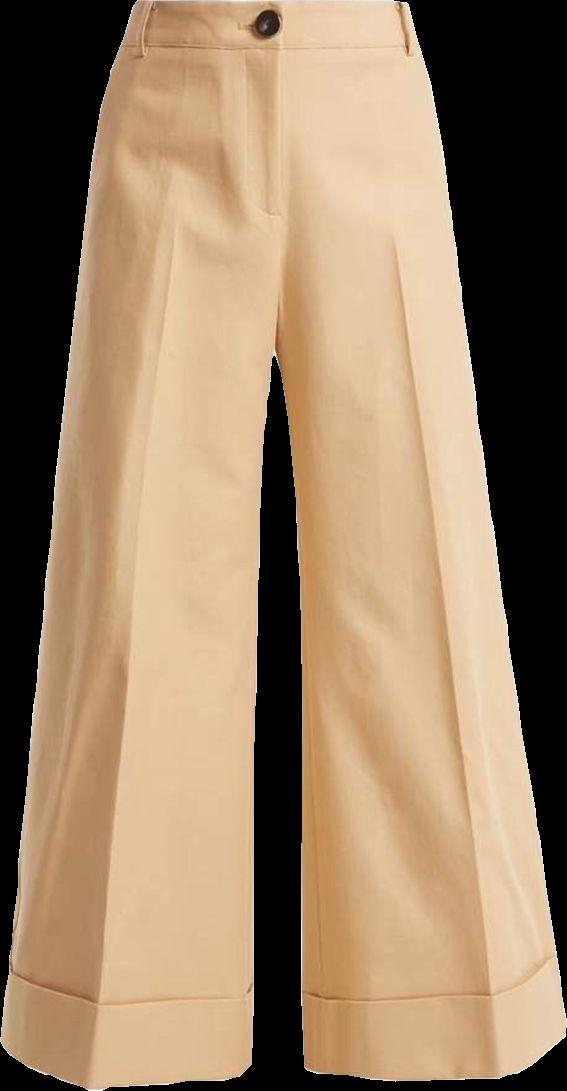Hemline: (302, 1029, 566, 1088), (0, 1036, 256, 1089)
Pantleg: (271, 0, 566, 1080), (1, 0, 282, 1088)
Waistline: (117, 40, 420, 57), (131, 0, 407, 14)
